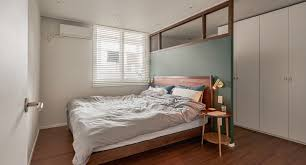Bed: (67, 75, 215, 165)
Table: (201, 104, 234, 158)
curtain: (94, 24, 150, 82)
